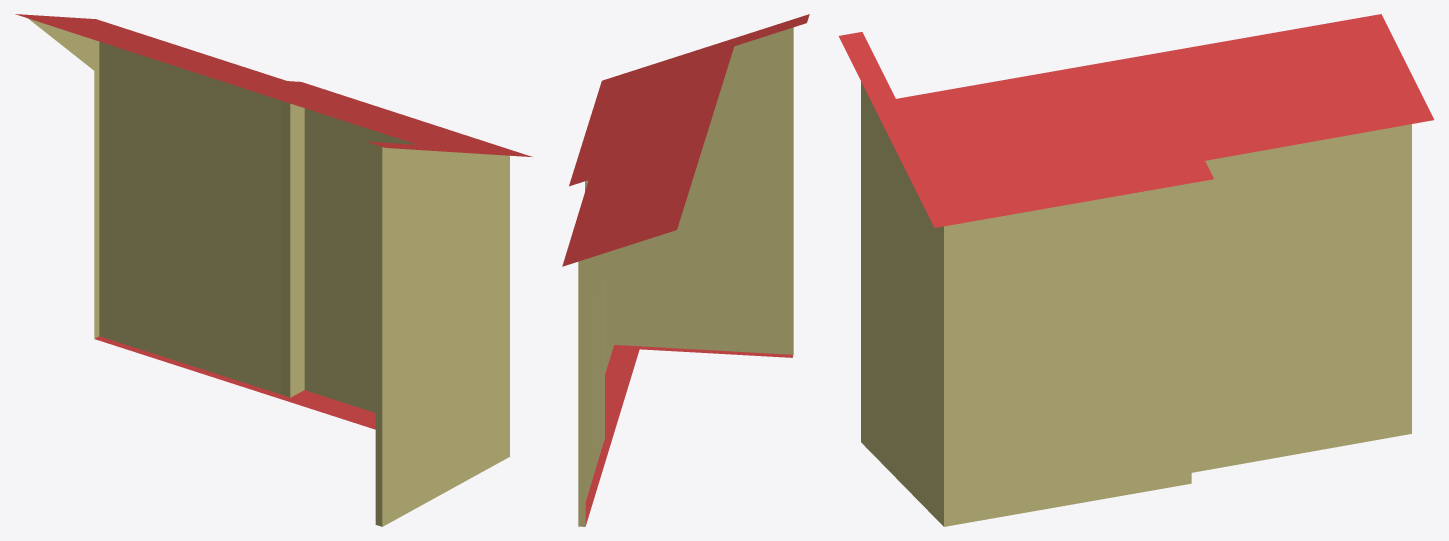
3 renders of one model, left to right at view 1: azimuth 30°, elevation 25°; view 2: azimuth 150°, elevation 25°; view 3: azimuth 270°, elevation 25°, orthographic. The views are drawn at different scales.
Size of the model in its own units: 10.43 by 17.18 by 12.79.
